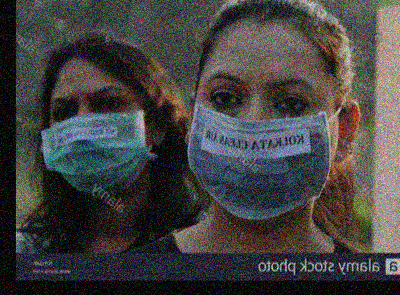with_mask: (186, 65, 337, 221), (41, 81, 149, 197)
